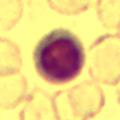lymphocyte: (29, 26, 88, 86)
